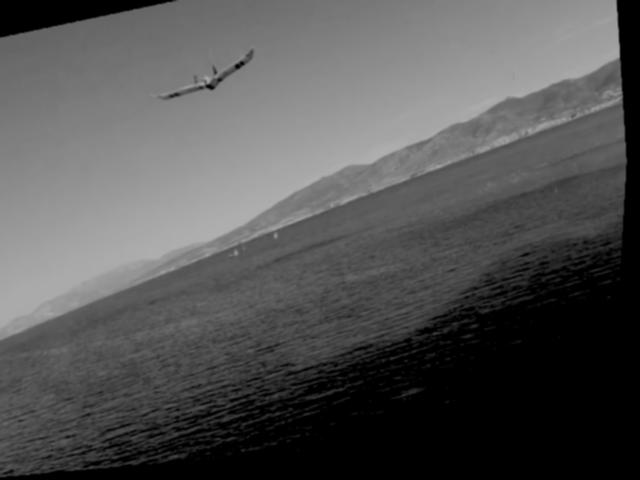hedef: (139, 32, 270, 119)
